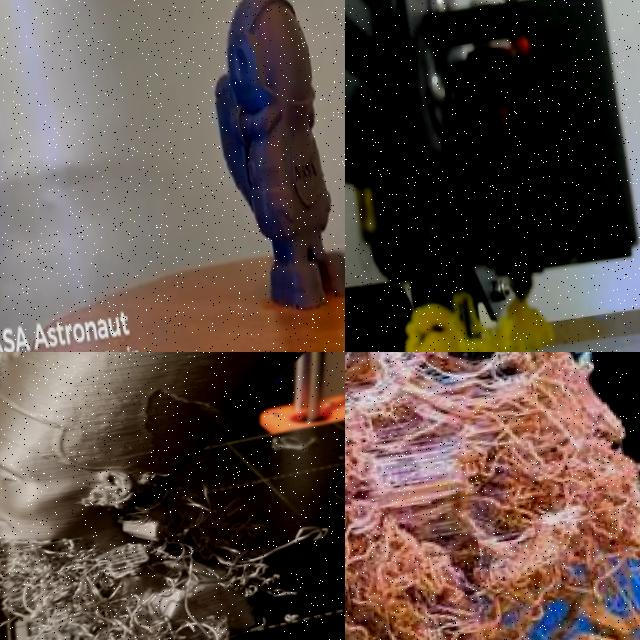spaghetti: (345, 352, 640, 640), (0, 483, 267, 640), (398, 287, 564, 352)
